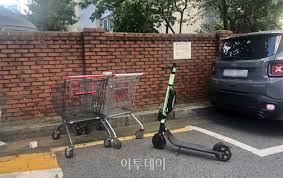kick_board: (152, 63, 232, 161)
kick_body: (175, 141, 212, 153)
kick_handler: (161, 62, 179, 70)
kick_wheel: (215, 142, 231, 162), (153, 133, 165, 148)
